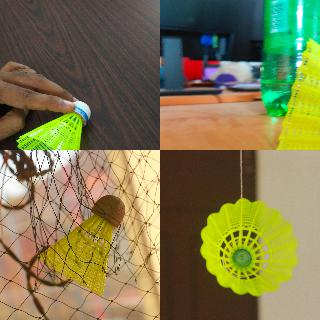shuttlecock: (200, 198, 296, 296), (39, 195, 125, 295), (275, 37, 319, 149), (16, 100, 91, 149)
